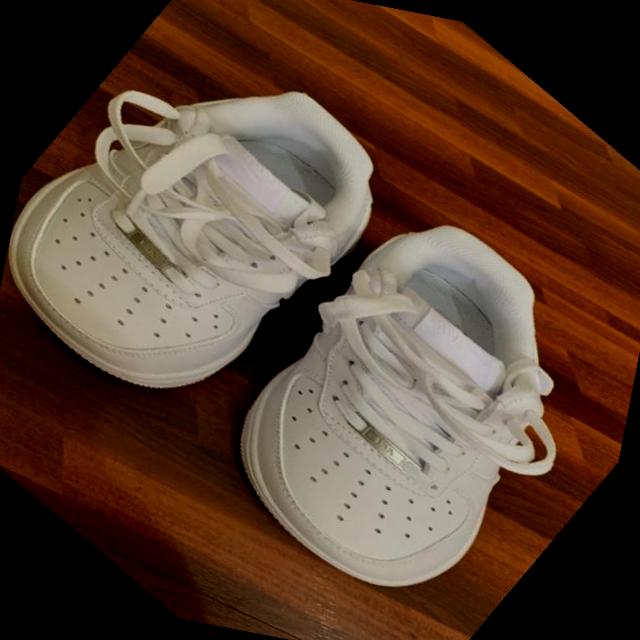nike_original_airforce: (161, 146, 640, 640), (0, 0, 443, 483)
